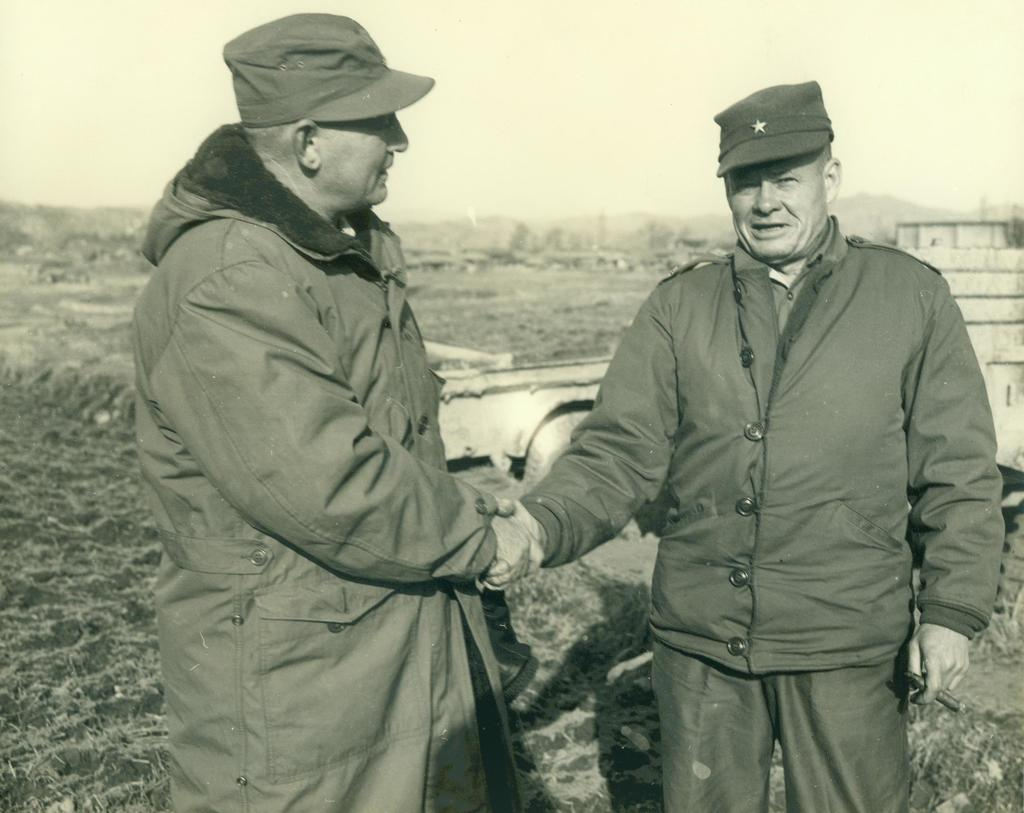Hat: (224, 14, 432, 128), (715, 79, 831, 176)
